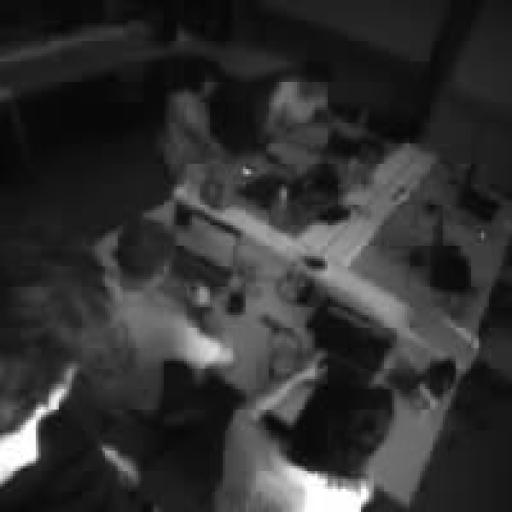human: (0, 228, 153, 511), (216, 359, 394, 511), (108, 218, 232, 412), (159, 57, 222, 181), (264, 62, 332, 140)
